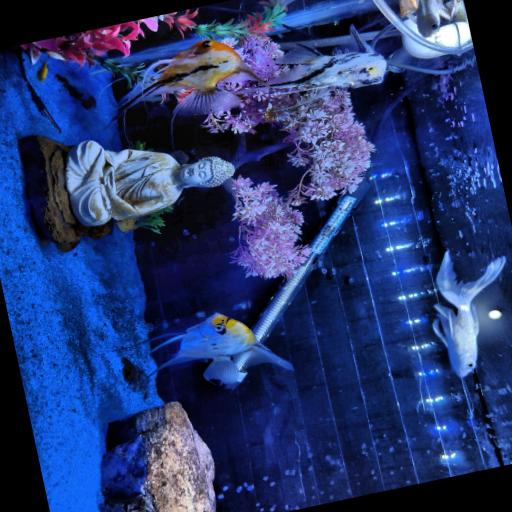Fish: (118, 39, 265, 115), (146, 312, 290, 385), (432, 251, 504, 376), (268, 26, 386, 99), (402, 0, 442, 36), (36, 61, 47, 80)
